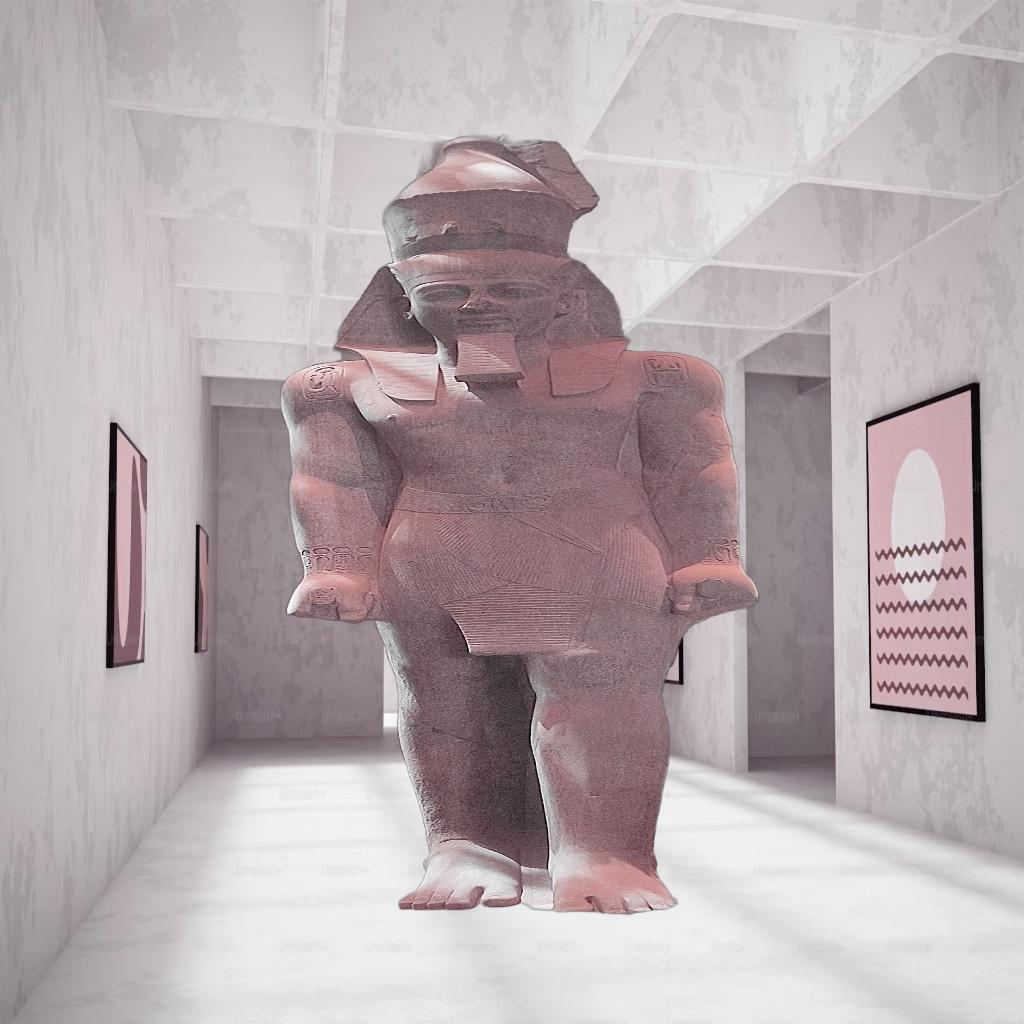Colossal Statue of Ramesses II beloved of Ptah: (274, 134, 768, 929)
